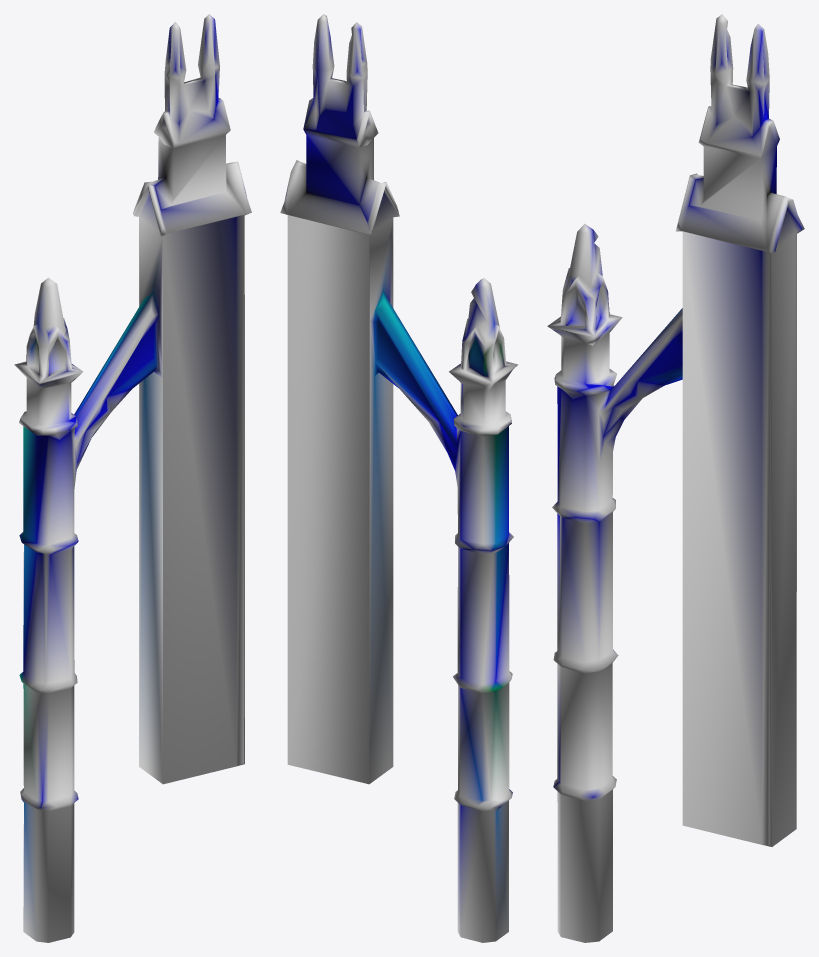
The model's file is SM_Buttress_01a.FBX.
3 views of the same model, side by side, from view 1: azimuth 30°, elevation 25°; view 2: azimuth 150°, elevation 25°; view 3: azimuth 330°, elevation 25° (orthographic). The views are drawn at different scales.
Parts seen in each view (by area): view 1: SMPX_Buttress_01a; view 2: SMPX_Buttress_01a; view 3: SMPX_Buttress_01a.
Part boxes in pixels (left/top/right/bottom): SMPX_Buttress_01a: left=14, top=14, right=251, bottom=942; SMPX_Buttress_01a: left=280, top=14, right=518, bottom=942; SMPX_Buttress_01a: left=547, top=14, right=804, bottom=942.
Size of the model in its own units: 2087 by 518 by 8219.
